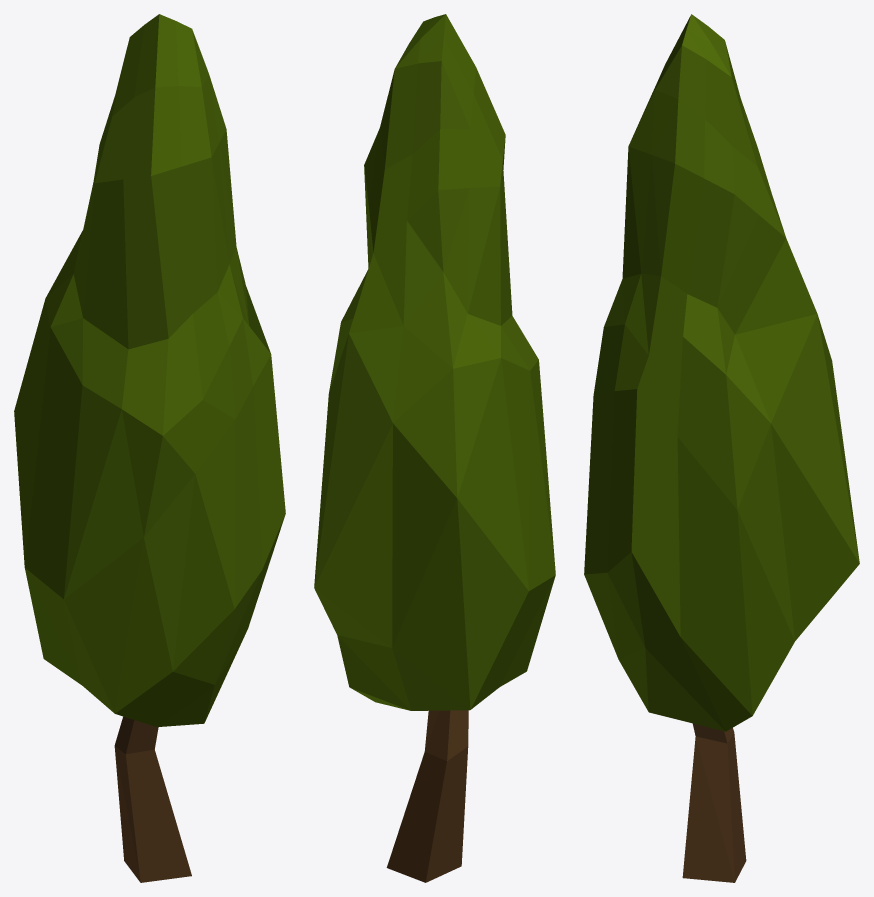
Rendered from tree_5_2.fbx.
The picture shows the model from 3 angles, left to right: view 1: azimuth 30°, elevation 25°; view 2: azimuth 150°, elevation 25°; view 3: azimuth 270°, elevation 25°; orthographic projection. The views are drawn at different scales.
Parts seen in each view (by area): view 1: tree_5_2; view 2: tree_5_2; view 3: tree_5_2.
Part boxes in pixels (<box>): tree_5_2: <box>14,14,285,882</box>; tree_5_2: <box>314,14,555,882</box>; tree_5_2: <box>584,14,859,882</box>.
Size of the model in its own units: 159 by 631 by 186.
